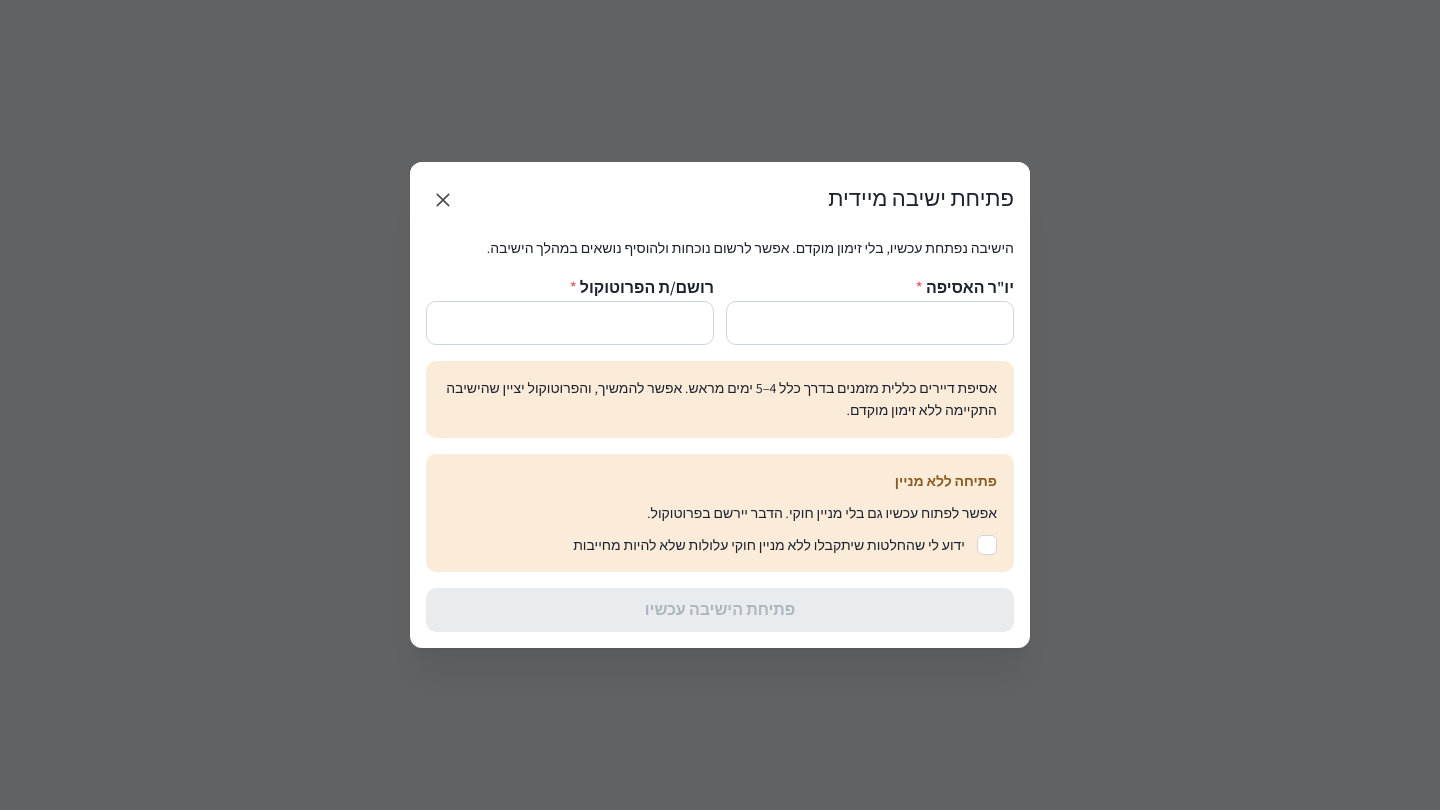
Test: quick start › a tenants' assembly warns (non-blocking) and needs the override, since no attendance is taken yet
Type "יו\"ר" into the field labelled "יו\"ר האסיפה *".
click(870, 323); type("יו\"ר")  # box x1=726 y1=301 x2=1014 y2=345
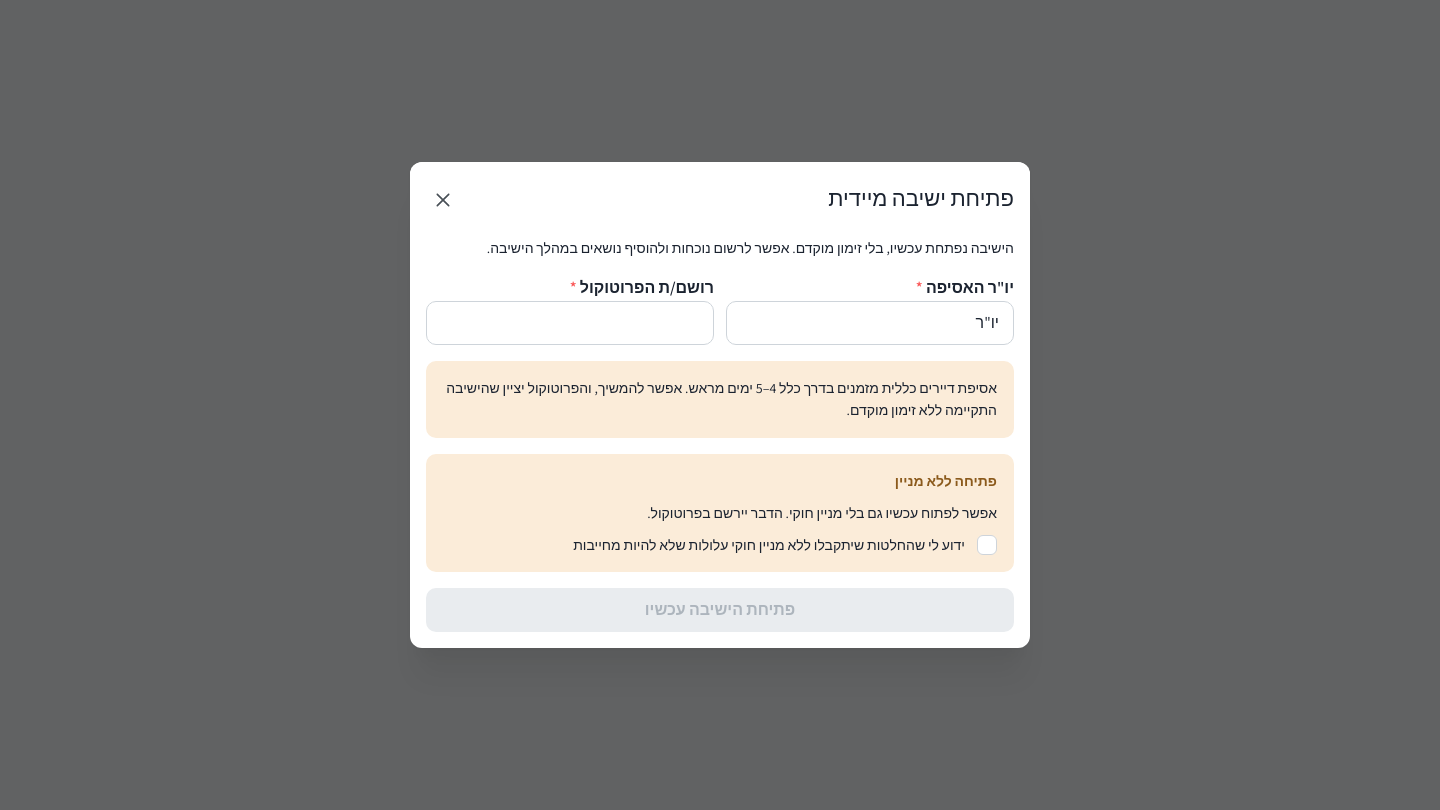
Type "מזכיר" into the field labelled "רושם/ת הפרוטוקול *".
click(570, 323); type("מזכיר")  # box x1=426 y1=301 x2=714 y2=345
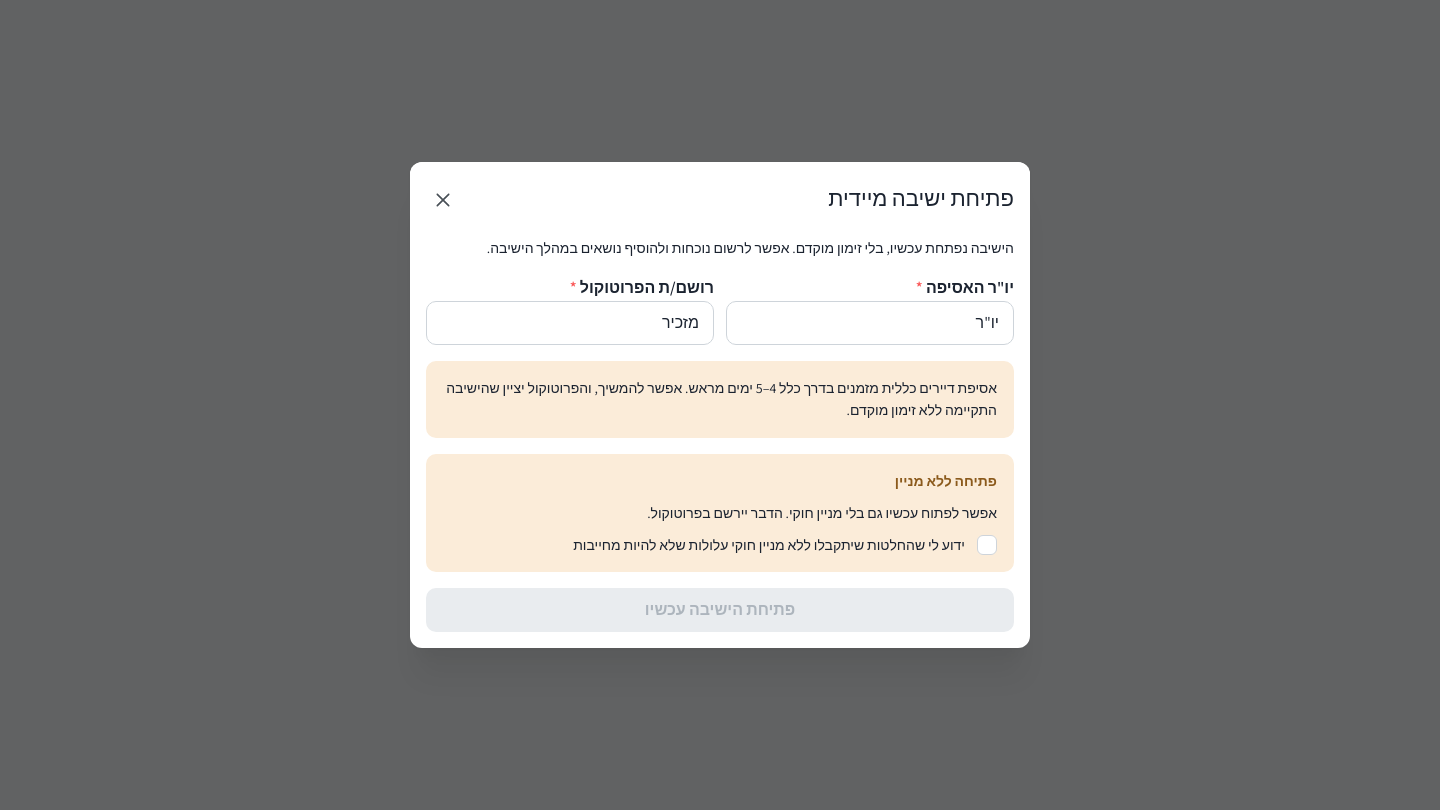
Expected: the text "אסיפת דיירים כללית מזמנים בדרך כלל 4–5 ימים מראש. אפשר להמשיך, והפרוטוקול יציין שהישיבה התקיימה ללא זימון מוקדם." is shown, x1=446 y1=379 x2=997 y2=419
Expected: the button "פתיחת הישיבה עכשיו" is disabled, x1=426 y1=588 x2=1014 y2=632
Click the checkbox labelled "ידוע לי שהחלטות שיתקבלו ללא מניין חוקי עלולות שלא להיות מחייבות".
click(987, 545)  # box x1=977 y1=535 x2=997 y2=555
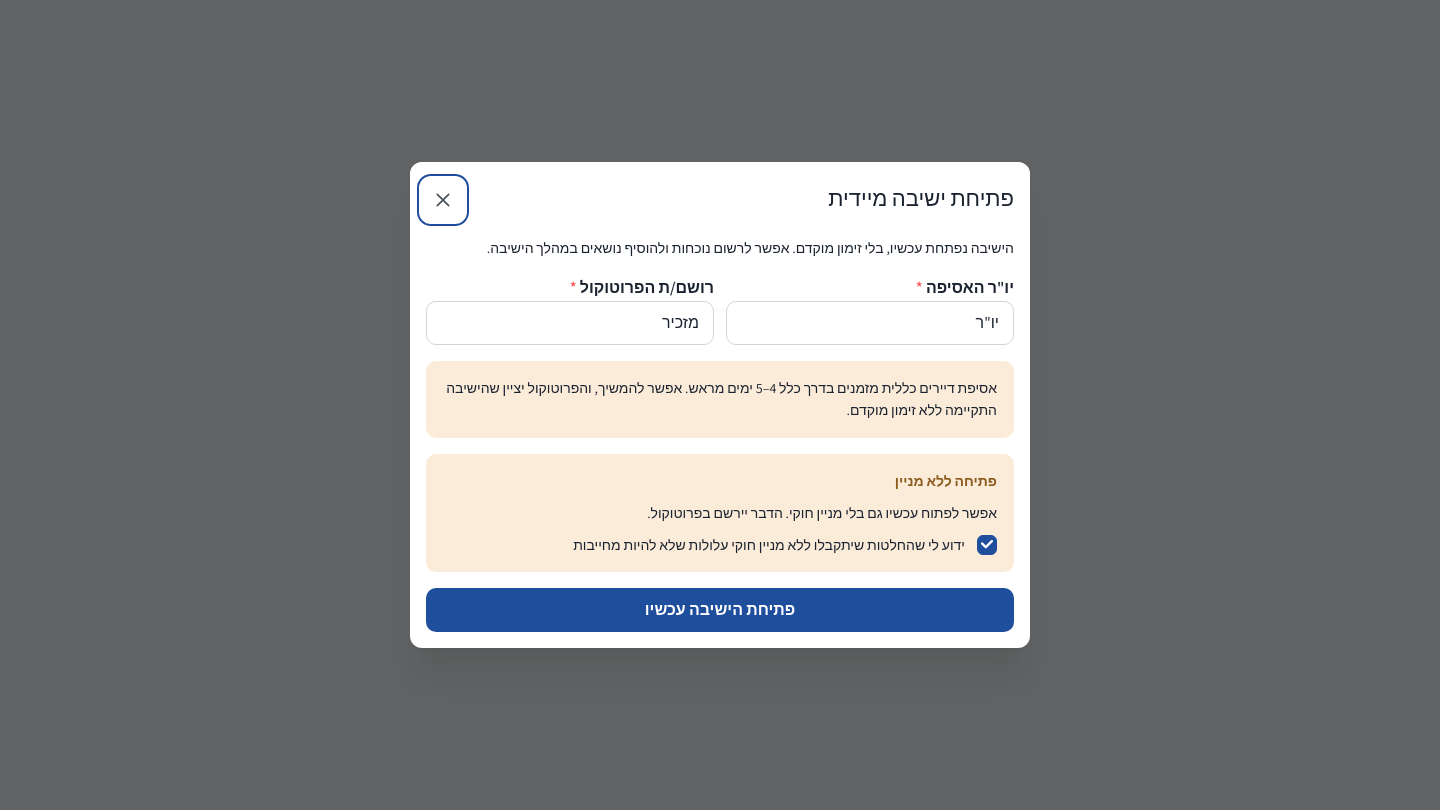
Expected: the button "פתיחת הישיבה עכשיו" is enabled, x1=426 y1=588 x2=1014 y2=632
